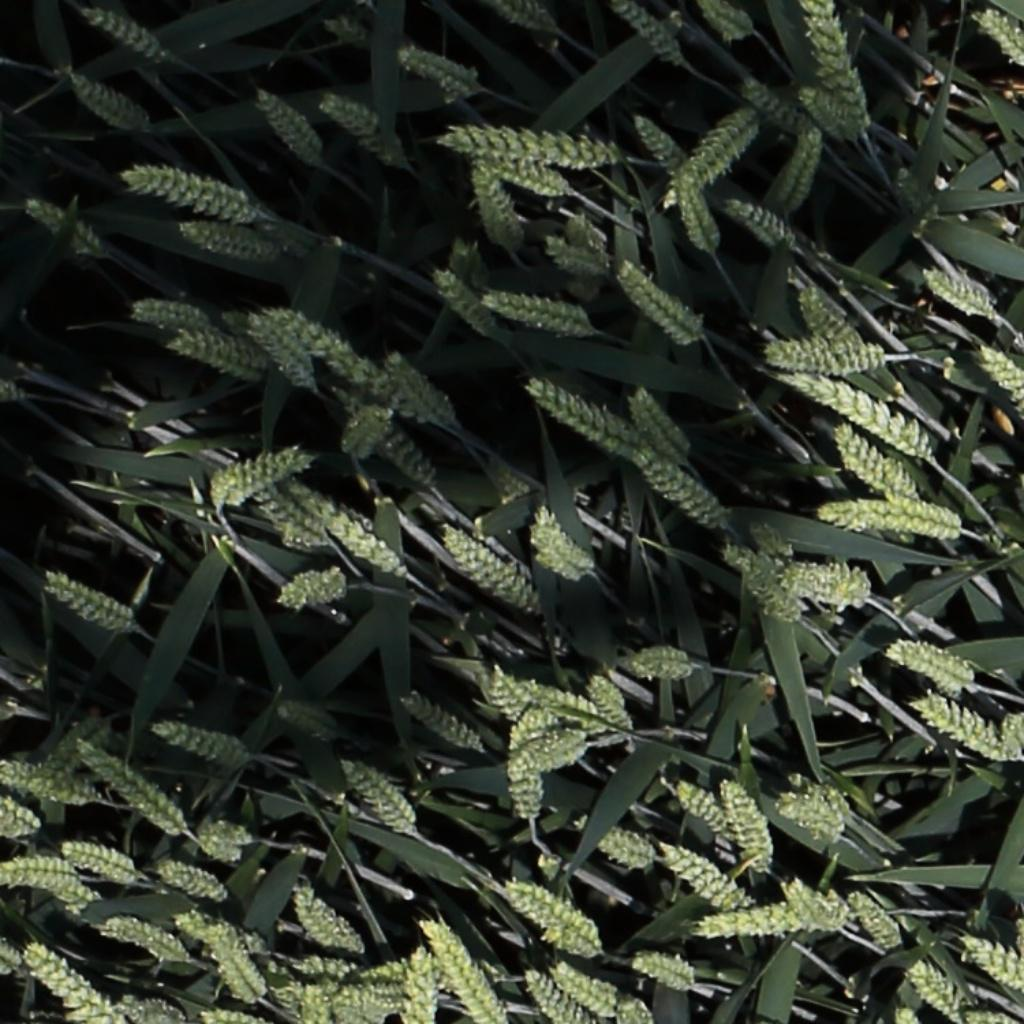0-0: (263, 307, 425, 420), (776, 371, 936, 464), (291, 478, 409, 579), (76, 737, 189, 838), (330, 386, 438, 486), (661, 105, 760, 212), (415, 916, 510, 1024), (436, 522, 540, 617), (525, 379, 650, 455), (439, 123, 629, 173), (21, 938, 130, 1024), (117, 159, 260, 222), (906, 687, 1024, 763), (803, 0, 870, 127), (614, 258, 707, 349), (501, 875, 607, 954), (209, 440, 324, 508), (831, 423, 925, 506), (637, 447, 731, 528), (27, 710, 113, 796), (817, 497, 969, 544), (321, 95, 412, 171), (690, 900, 857, 940), (337, 755, 418, 836), (360, 949, 509, 992), (656, 845, 750, 913), (168, 326, 280, 383), (482, 284, 598, 339), (41, 568, 138, 633), (248, 84, 322, 165), (764, 122, 827, 216), (527, 501, 599, 583), (381, 349, 459, 424), (509, 680, 615, 735), (399, 688, 487, 754), (886, 635, 982, 695), (245, 311, 317, 391), (145, 716, 255, 768), (625, 385, 695, 466), (716, 775, 772, 875), (0, 116, 69, 197), (759, 335, 892, 375), (0, 756, 102, 808), (175, 220, 292, 264), (107, 913, 199, 968), (173, 906, 274, 956), (776, 560, 876, 609), (427, 264, 496, 335), (610, 0, 684, 66), (467, 157, 582, 199), (905, 956, 976, 1024), (253, 490, 333, 550), (471, 166, 526, 253), (80, 5, 163, 62), (575, 814, 655, 873), (796, 282, 866, 348), (65, 69, 146, 126), (274, 979, 409, 1013), (23, 195, 102, 252), (209, 930, 268, 1004), (334, 395, 401, 459), (395, 45, 482, 94), (521, 966, 595, 1023), (957, 931, 1024, 993), (508, 711, 545, 823), (739, 77, 808, 137), (744, 563, 809, 625), (921, 266, 996, 319), (723, 195, 797, 248), (674, 174, 723, 254), (548, 960, 618, 1016), (777, 787, 849, 841), (887, 164, 936, 243), (850, 886, 910, 950), (631, 109, 691, 173), (504, 730, 591, 773), (151, 861, 234, 906), (670, 782, 733, 841), (61, 840, 140, 887), (796, 85, 859, 143), (781, 878, 847, 933), (125, 296, 219, 334), (61, 880, 122, 938), (397, 942, 440, 1024), (277, 566, 355, 611), (974, 6, 1024, 72), (543, 233, 610, 282), (307, 897, 363, 954), (629, 948, 698, 993), (623, 640, 695, 683), (289, 885, 338, 946), (586, 674, 634, 735), (790, 772, 855, 816), (0, 858, 83, 891), (697, 0, 761, 42), (974, 345, 1024, 393), (490, 664, 530, 724), (720, 542, 783, 580), (124, 993, 194, 1024), (0, 796, 46, 841), (294, 952, 363, 981), (323, 11, 373, 50), (499, 0, 557, 31), (198, 818, 261, 845), (751, 522, 794, 561), (297, 982, 336, 1024), (197, 1004, 272, 1024), (543, 740, 589, 772), (998, 710, 1024, 764), (198, 836, 243, 862), (964, 1006, 1024, 1024), (618, 996, 655, 1024), (1, 938, 25, 981), (0, 380, 30, 407), (1004, 388, 1024, 425), (219, 309, 247, 329)
